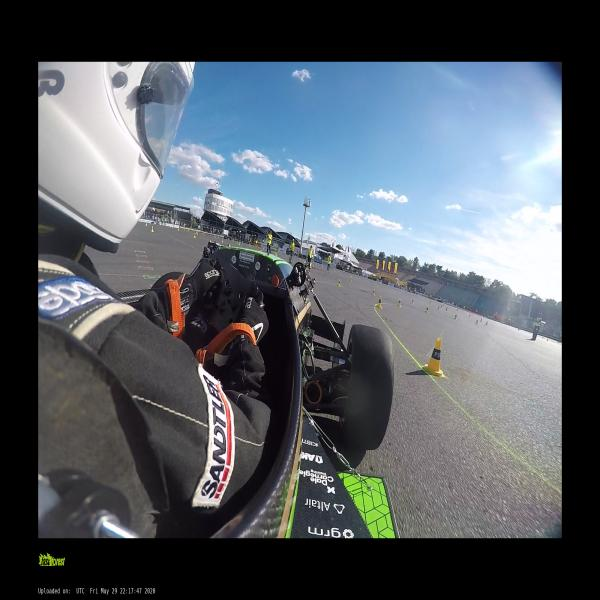yellow_cone: (423, 337, 446, 377), (376, 296, 382, 309), (397, 299, 402, 307), (371, 288, 376, 296), (337, 279, 341, 287), (424, 306, 428, 313), (150, 225, 154, 232), (410, 299, 414, 305), (453, 314, 457, 320), (474, 319, 478, 324), (484, 320, 488, 325), (445, 308, 448, 312), (437, 306, 440, 310), (350, 276, 352, 282), (479, 318, 482, 322), (546, 338, 548, 341), (194, 233, 195, 238), (440, 305, 442, 307)
